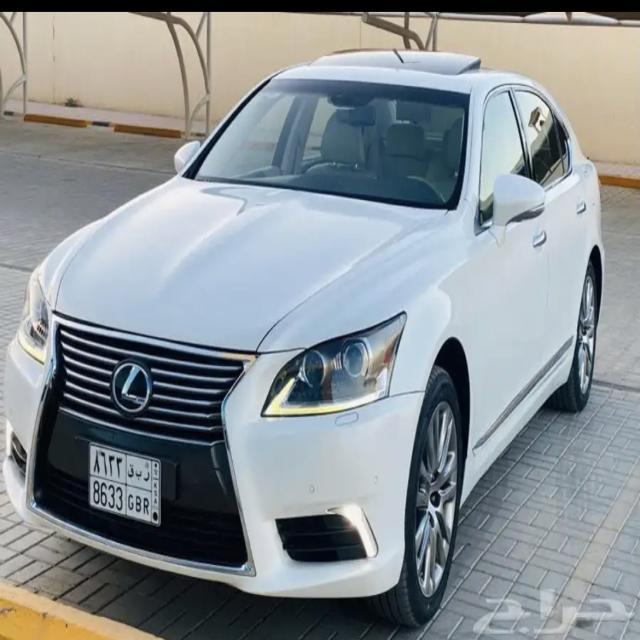license_plate: (86, 446, 164, 528)
